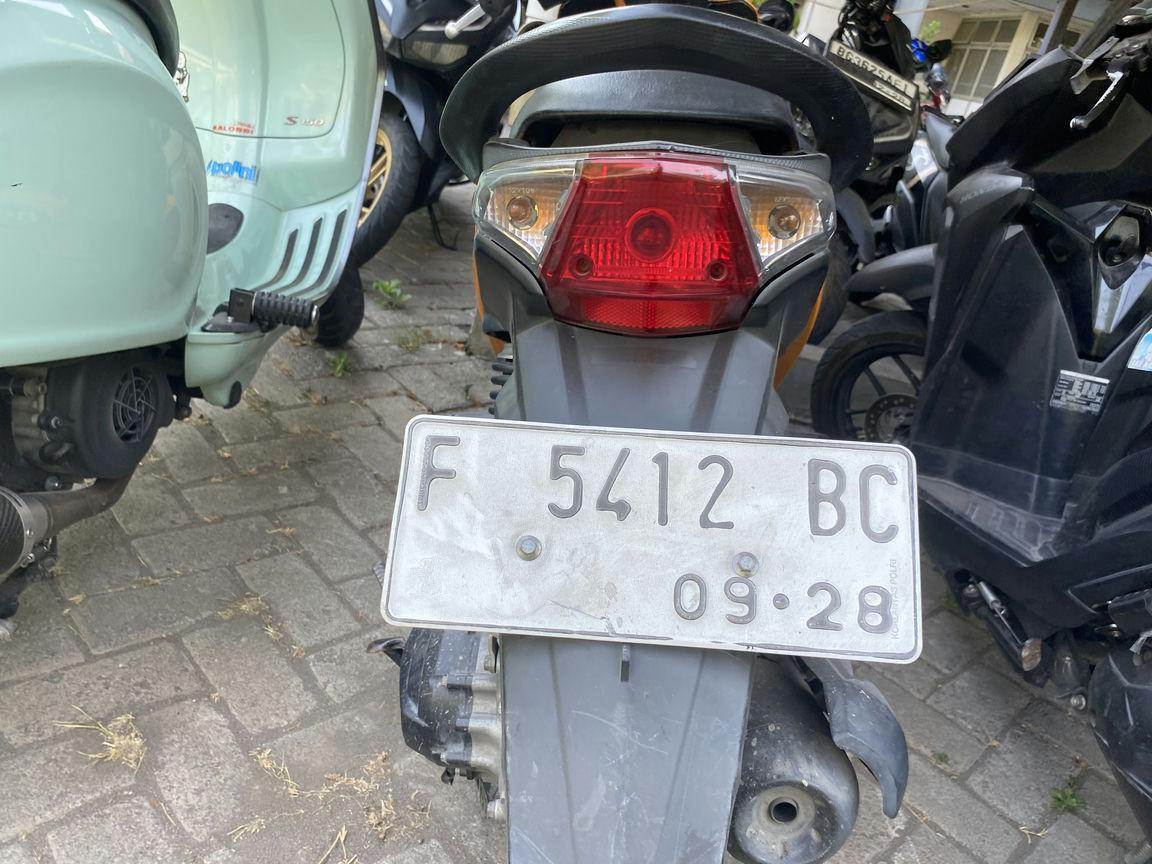plat: (382, 416, 920, 664)
